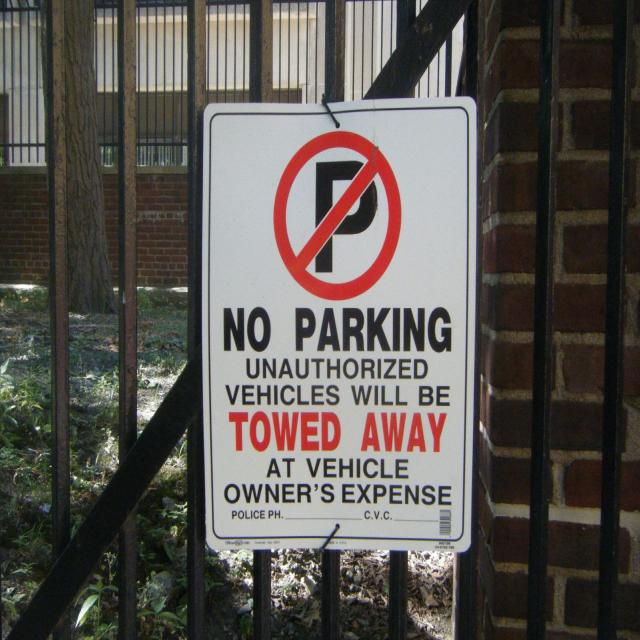No_parking: (276, 131, 404, 303)
